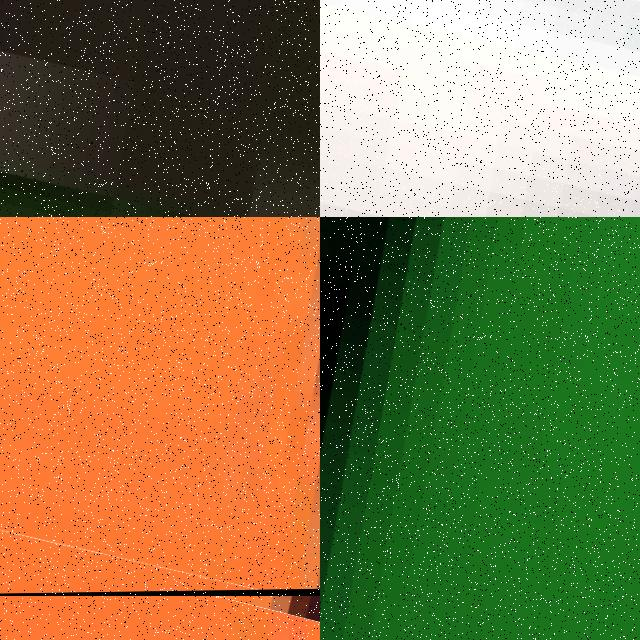drone: (320, 217, 640, 640), (0, 217, 320, 596), (0, 0, 320, 217), (320, 0, 640, 217)
